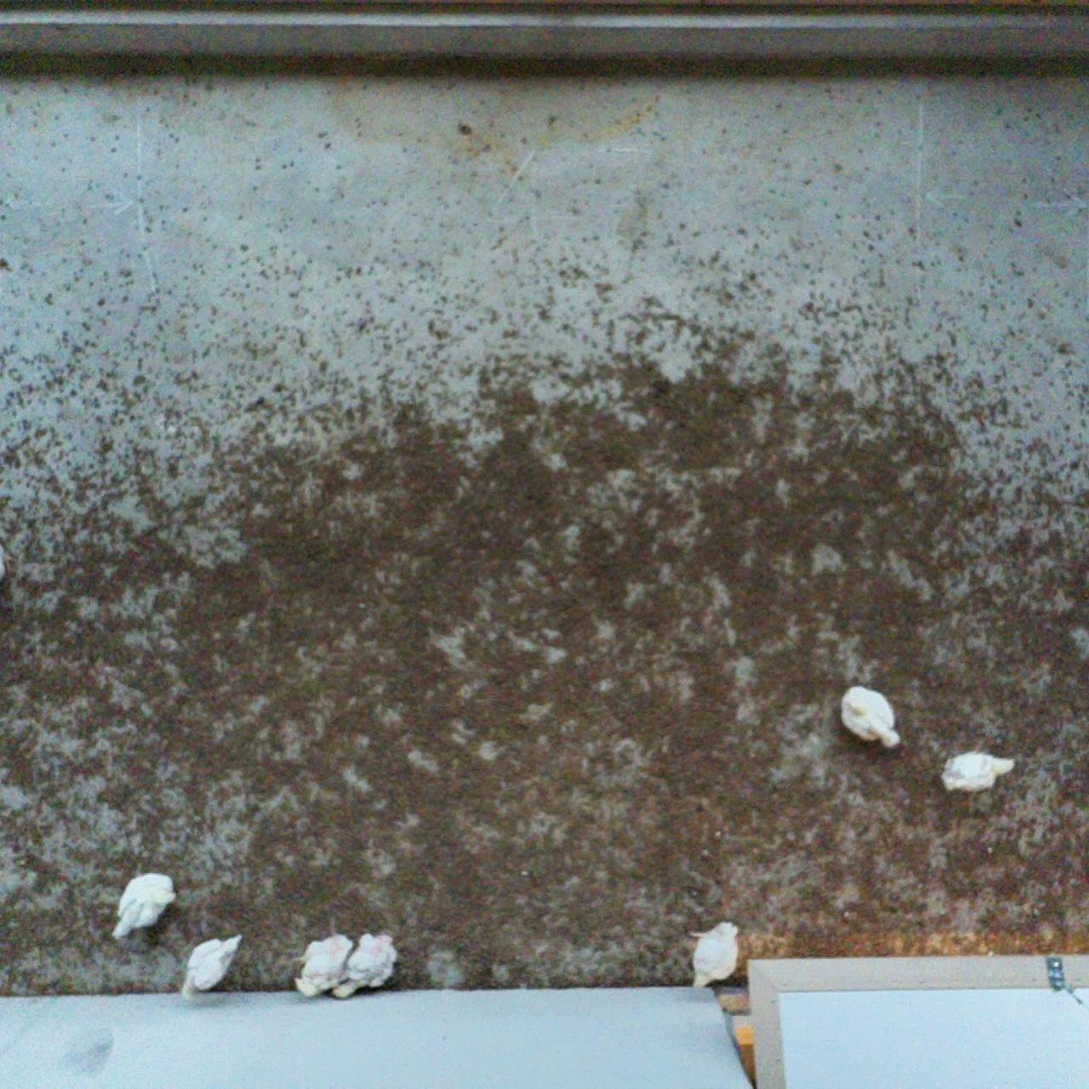chicken: (936, 738, 1019, 801), (330, 931, 400, 1002), (111, 871, 178, 942), (179, 932, 246, 1002), (290, 932, 358, 999), (838, 683, 904, 752), (685, 920, 743, 989)
